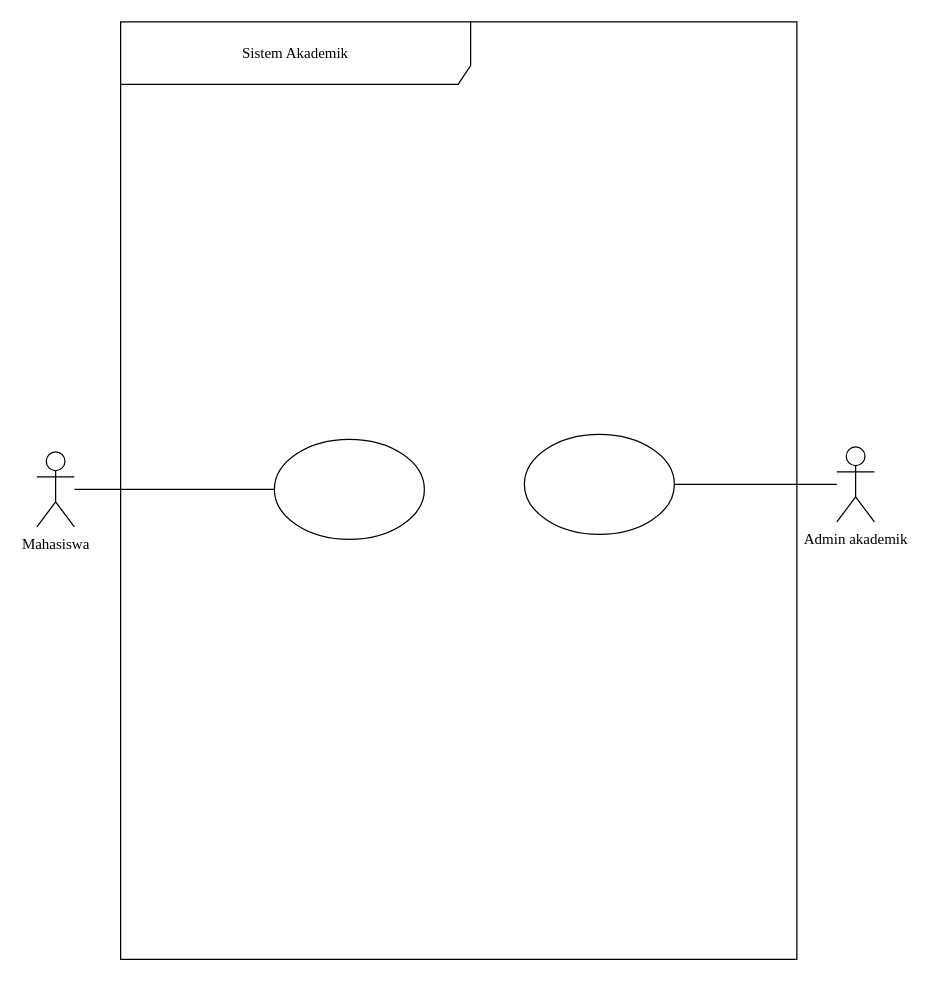
This 929x981 diagram has some shape labels left out. The centre of each missing label's shape, as x and y in pixels:
Kelola jadwal kuliah: (598,483)
Lihat Jadwal Kuliah: (348,488)
